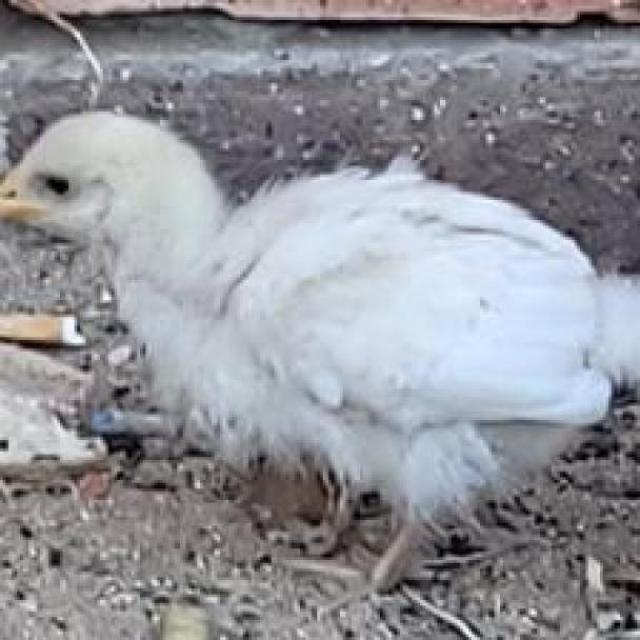Chicken: (10, 101, 640, 585)
